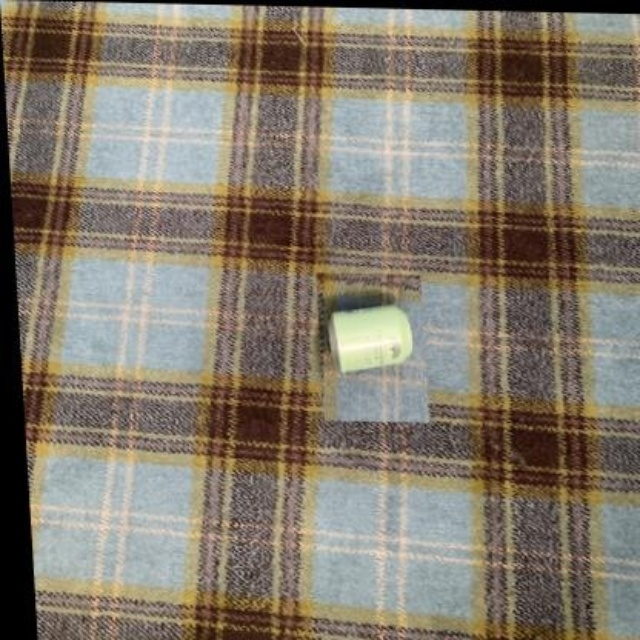trash: (328, 305, 411, 372)
